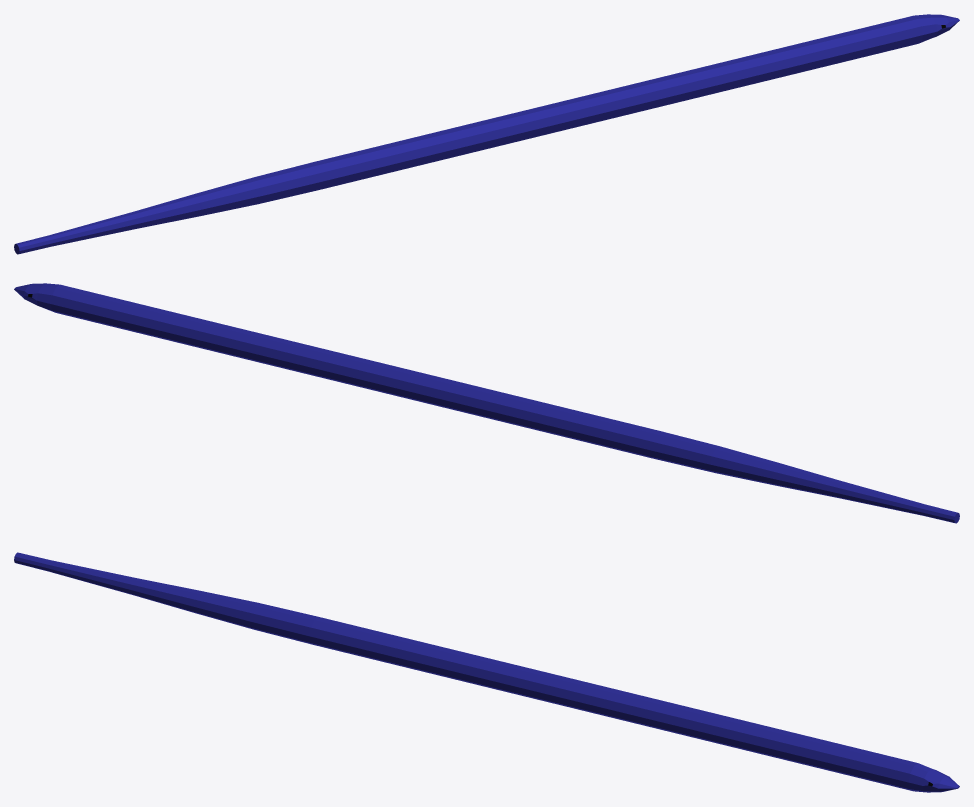
File: Snake3.glb
The picture shows the model from 3 angles, top to bottom: view 1: azimuth 30°, elevation 25°; view 2: azimuth 150°, elevation 25°; view 3: azimuth 330°, elevation 25°; orthographic projection.
Parts seen in each view (by area): view 1: Cylinder; view 2: Cylinder; view 3: Cylinder.
Part boxes in pixels (box(x1,y1,x2,y2)): Cylinder: box(14, 14, 959, 254); Cylinder: box(14, 283, 959, 523); Cylinder: box(14, 552, 959, 792).
Bounding box in the file's own units: 7.16 × 0.1818 × 0.1911.
